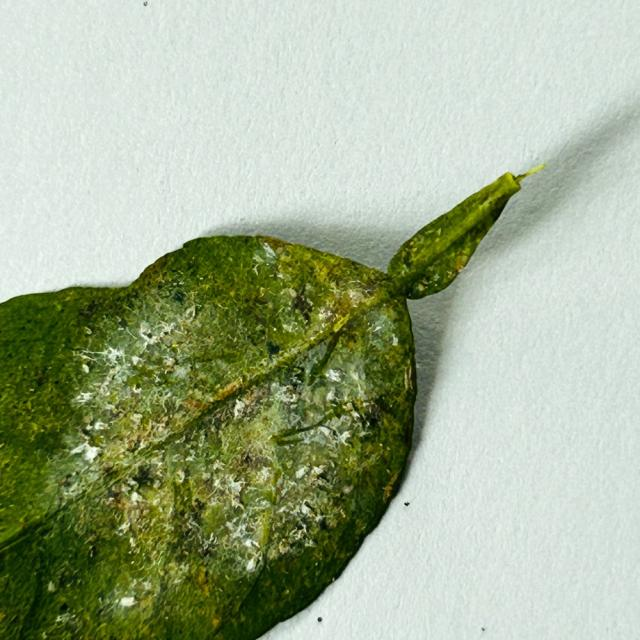Bacterial_Blight: (102, 476, 167, 537), (114, 410, 171, 460), (120, 464, 168, 504), (227, 388, 269, 426), (236, 446, 270, 477), (291, 287, 314, 322), (129, 463, 157, 489), (359, 404, 382, 431), (466, 220, 488, 245), (76, 298, 101, 319), (181, 395, 206, 414), (406, 357, 417, 399), (196, 568, 213, 592), (33, 367, 51, 388), (247, 329, 266, 346), (361, 280, 380, 297), (262, 485, 278, 505), (162, 396, 177, 416), (266, 341, 281, 357), (171, 289, 186, 304), (303, 502, 317, 518), (198, 545, 213, 559), (163, 359, 176, 374), (242, 451, 254, 467), (316, 471, 330, 484), (317, 516, 329, 531), (402, 254, 413, 269), (117, 317, 129, 330), (87, 544, 96, 559), (81, 427, 92, 438), (59, 602, 69, 613), (341, 485, 352, 495), (282, 249, 292, 258), (146, 331, 153, 338)
Lemon: (0, 173, 530, 639)
